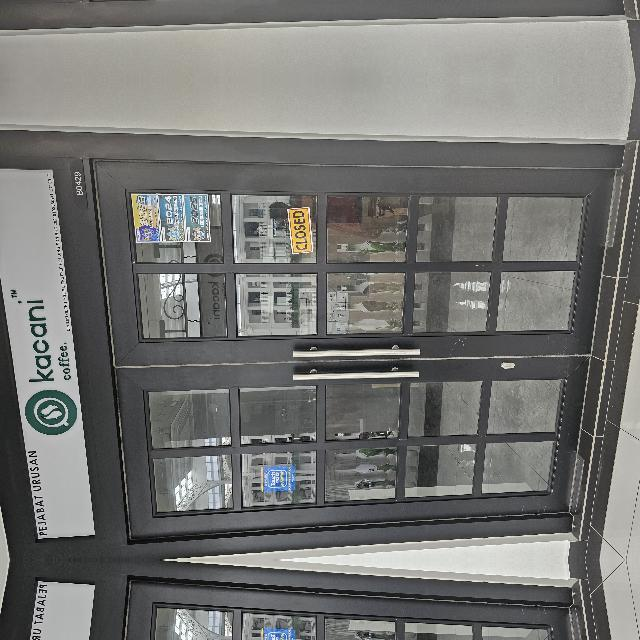door: (1, 148, 434, 640), (1, 400, 434, 640), (1, 0, 434, 12)
